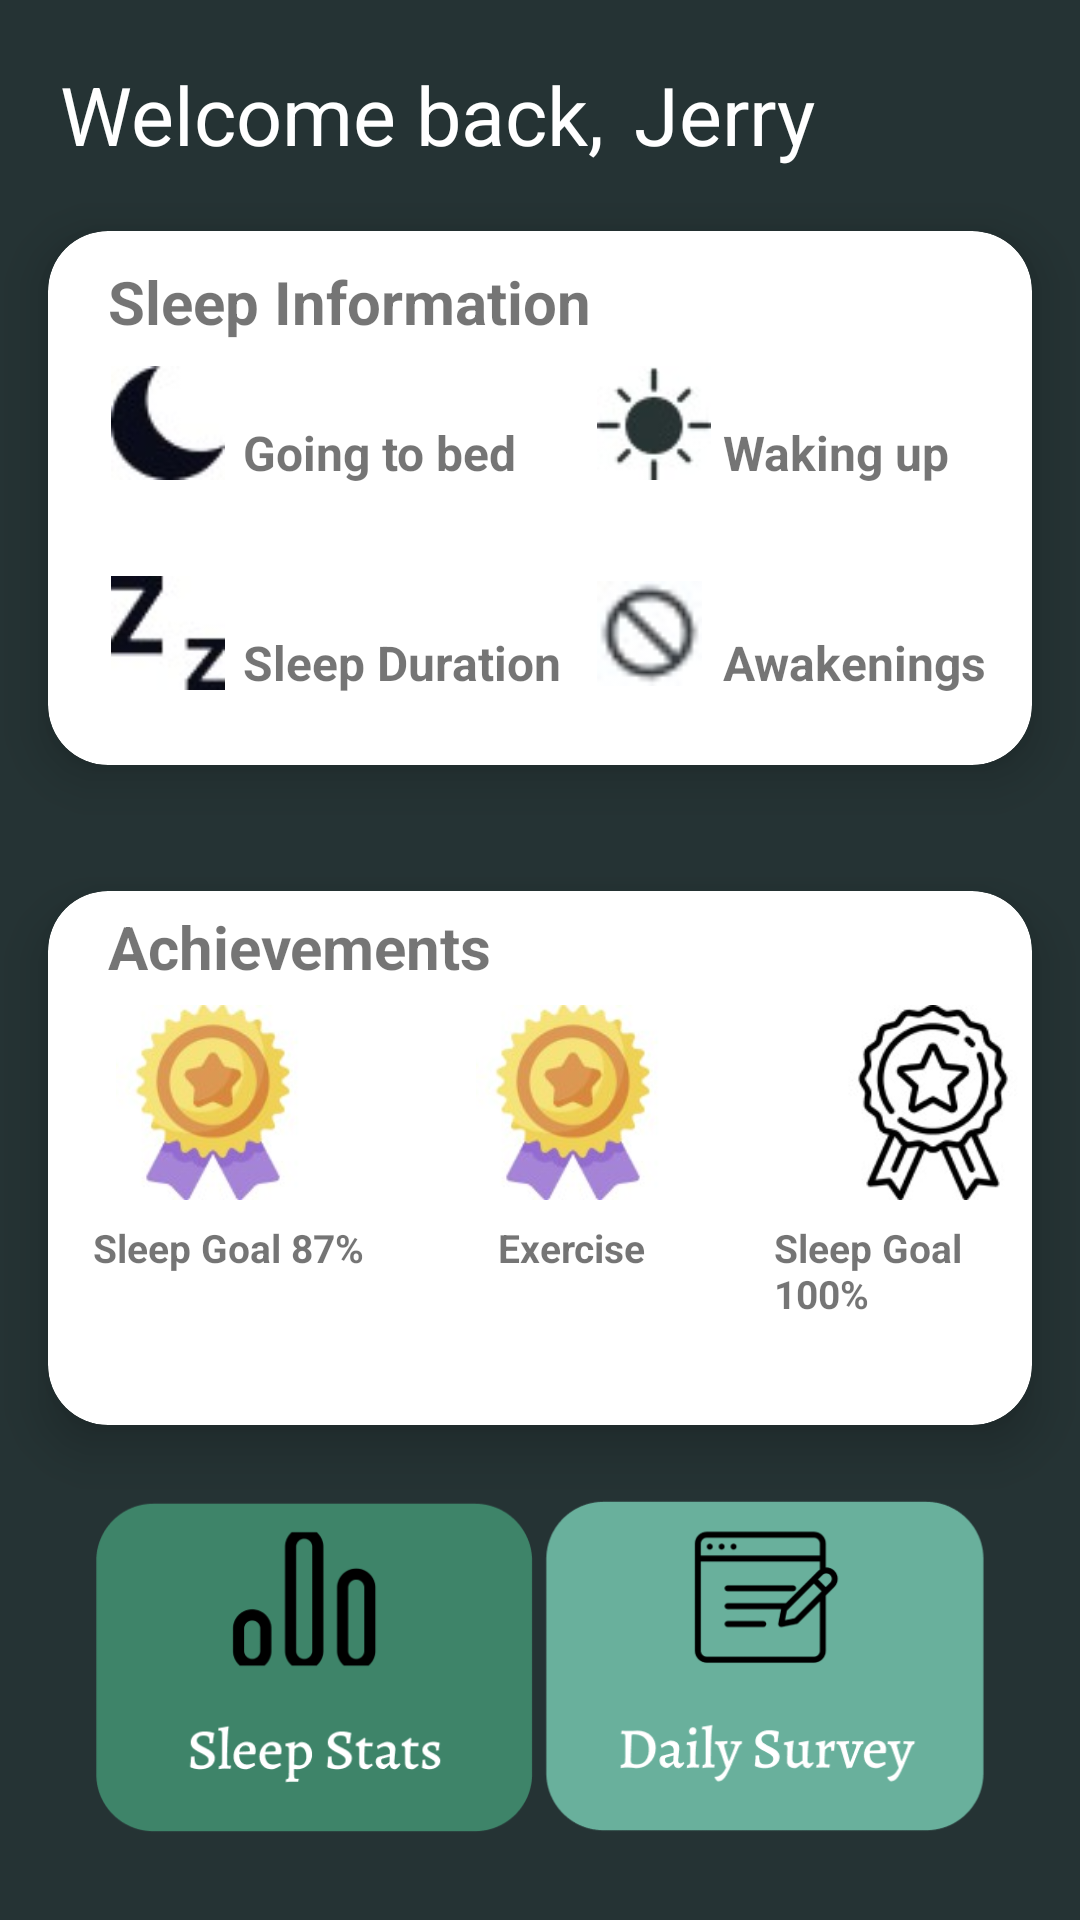

Screen size 1080w x 1920h. Icon name, then its box in pixels as (x1, y1, x2, y2):
gold medal: (135, 1005, 291, 1200), (495, 1005, 651, 1200)
medal: (858, 1005, 1008, 1200)
